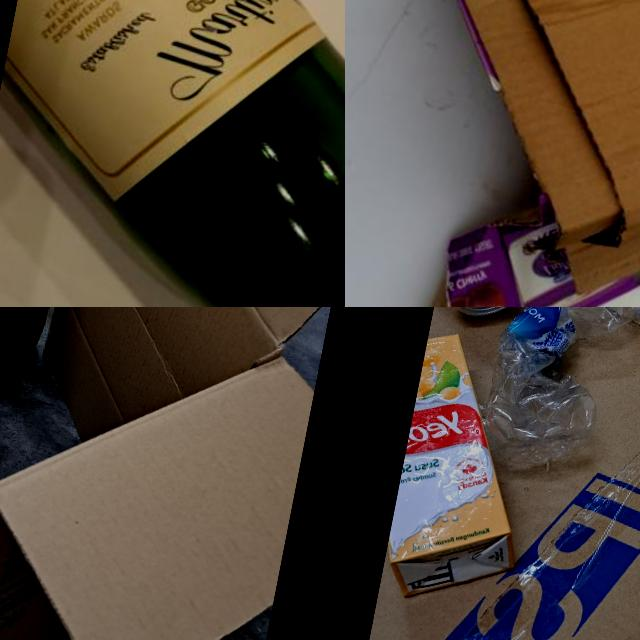caixinha: (379, 329, 555, 616)
garrafa de vidro: (0, 0, 345, 307)
garrafa plástica: (475, 307, 640, 492)
papelão: (0, 307, 345, 640), (359, 307, 640, 640), (345, 0, 640, 307)
